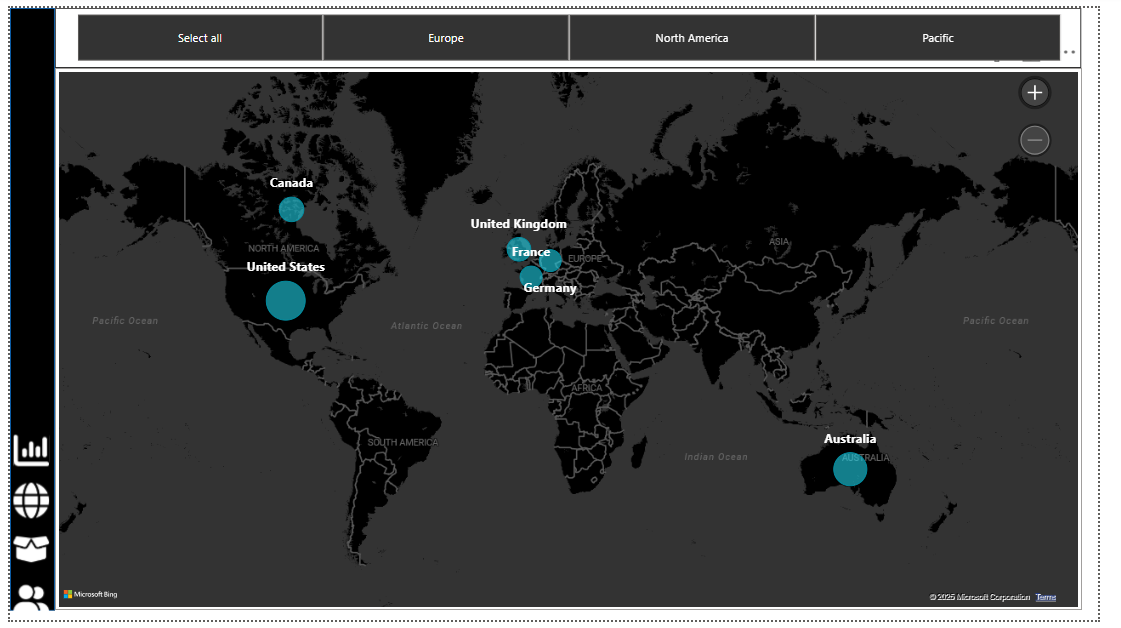

Layout of this report page (visuals, bound fields, positions):
{"tool":"powerbi","page":{"name":"Map","canvas":[1280,720],"ordinal":1},"visuals":[{"type":"shape","box":[0,0,52.7,709.1],"z":0},{"type":"map","fields":{"Category":["Territory Lookup.Country"],"Size":["Measure_Table.Total Orders"]},"box":[52.5,70,1207.5,638.8],"z":1000},{"type":"slicer","fields":{"Values":["Territory Lookup.Continent"]},"box":[52.5,0,1207.5,70],"z":2000},{"type":"actionButton","box":[0,495.6,52.9,50],"z":3000},{"type":"actionButton","box":[0,612.3,52.9,50],"z":4000},{"type":"actionButton","box":[0,670,52.9,50],"z":5000},{"type":"actionButton","box":[0,553.9,52.9,50],"z":6000}]}

Visuals, with their boxes in screenshot pixels (x1, y1, x2, y2):
shape: <region>6, 0, 51, 607</region>
map - Territory Lookup.Country x Measure_Table.Total Orders: <region>51, 57, 1089, 606</region>
slicer - Territory Lookup.Continent: <region>51, 0, 1089, 57</region>
actionButton: <region>6, 423, 51, 466</region>
actionButton: <region>6, 523, 51, 566</region>
actionButton: <region>6, 573, 51, 616</region>
actionButton: <region>6, 473, 51, 516</region>
